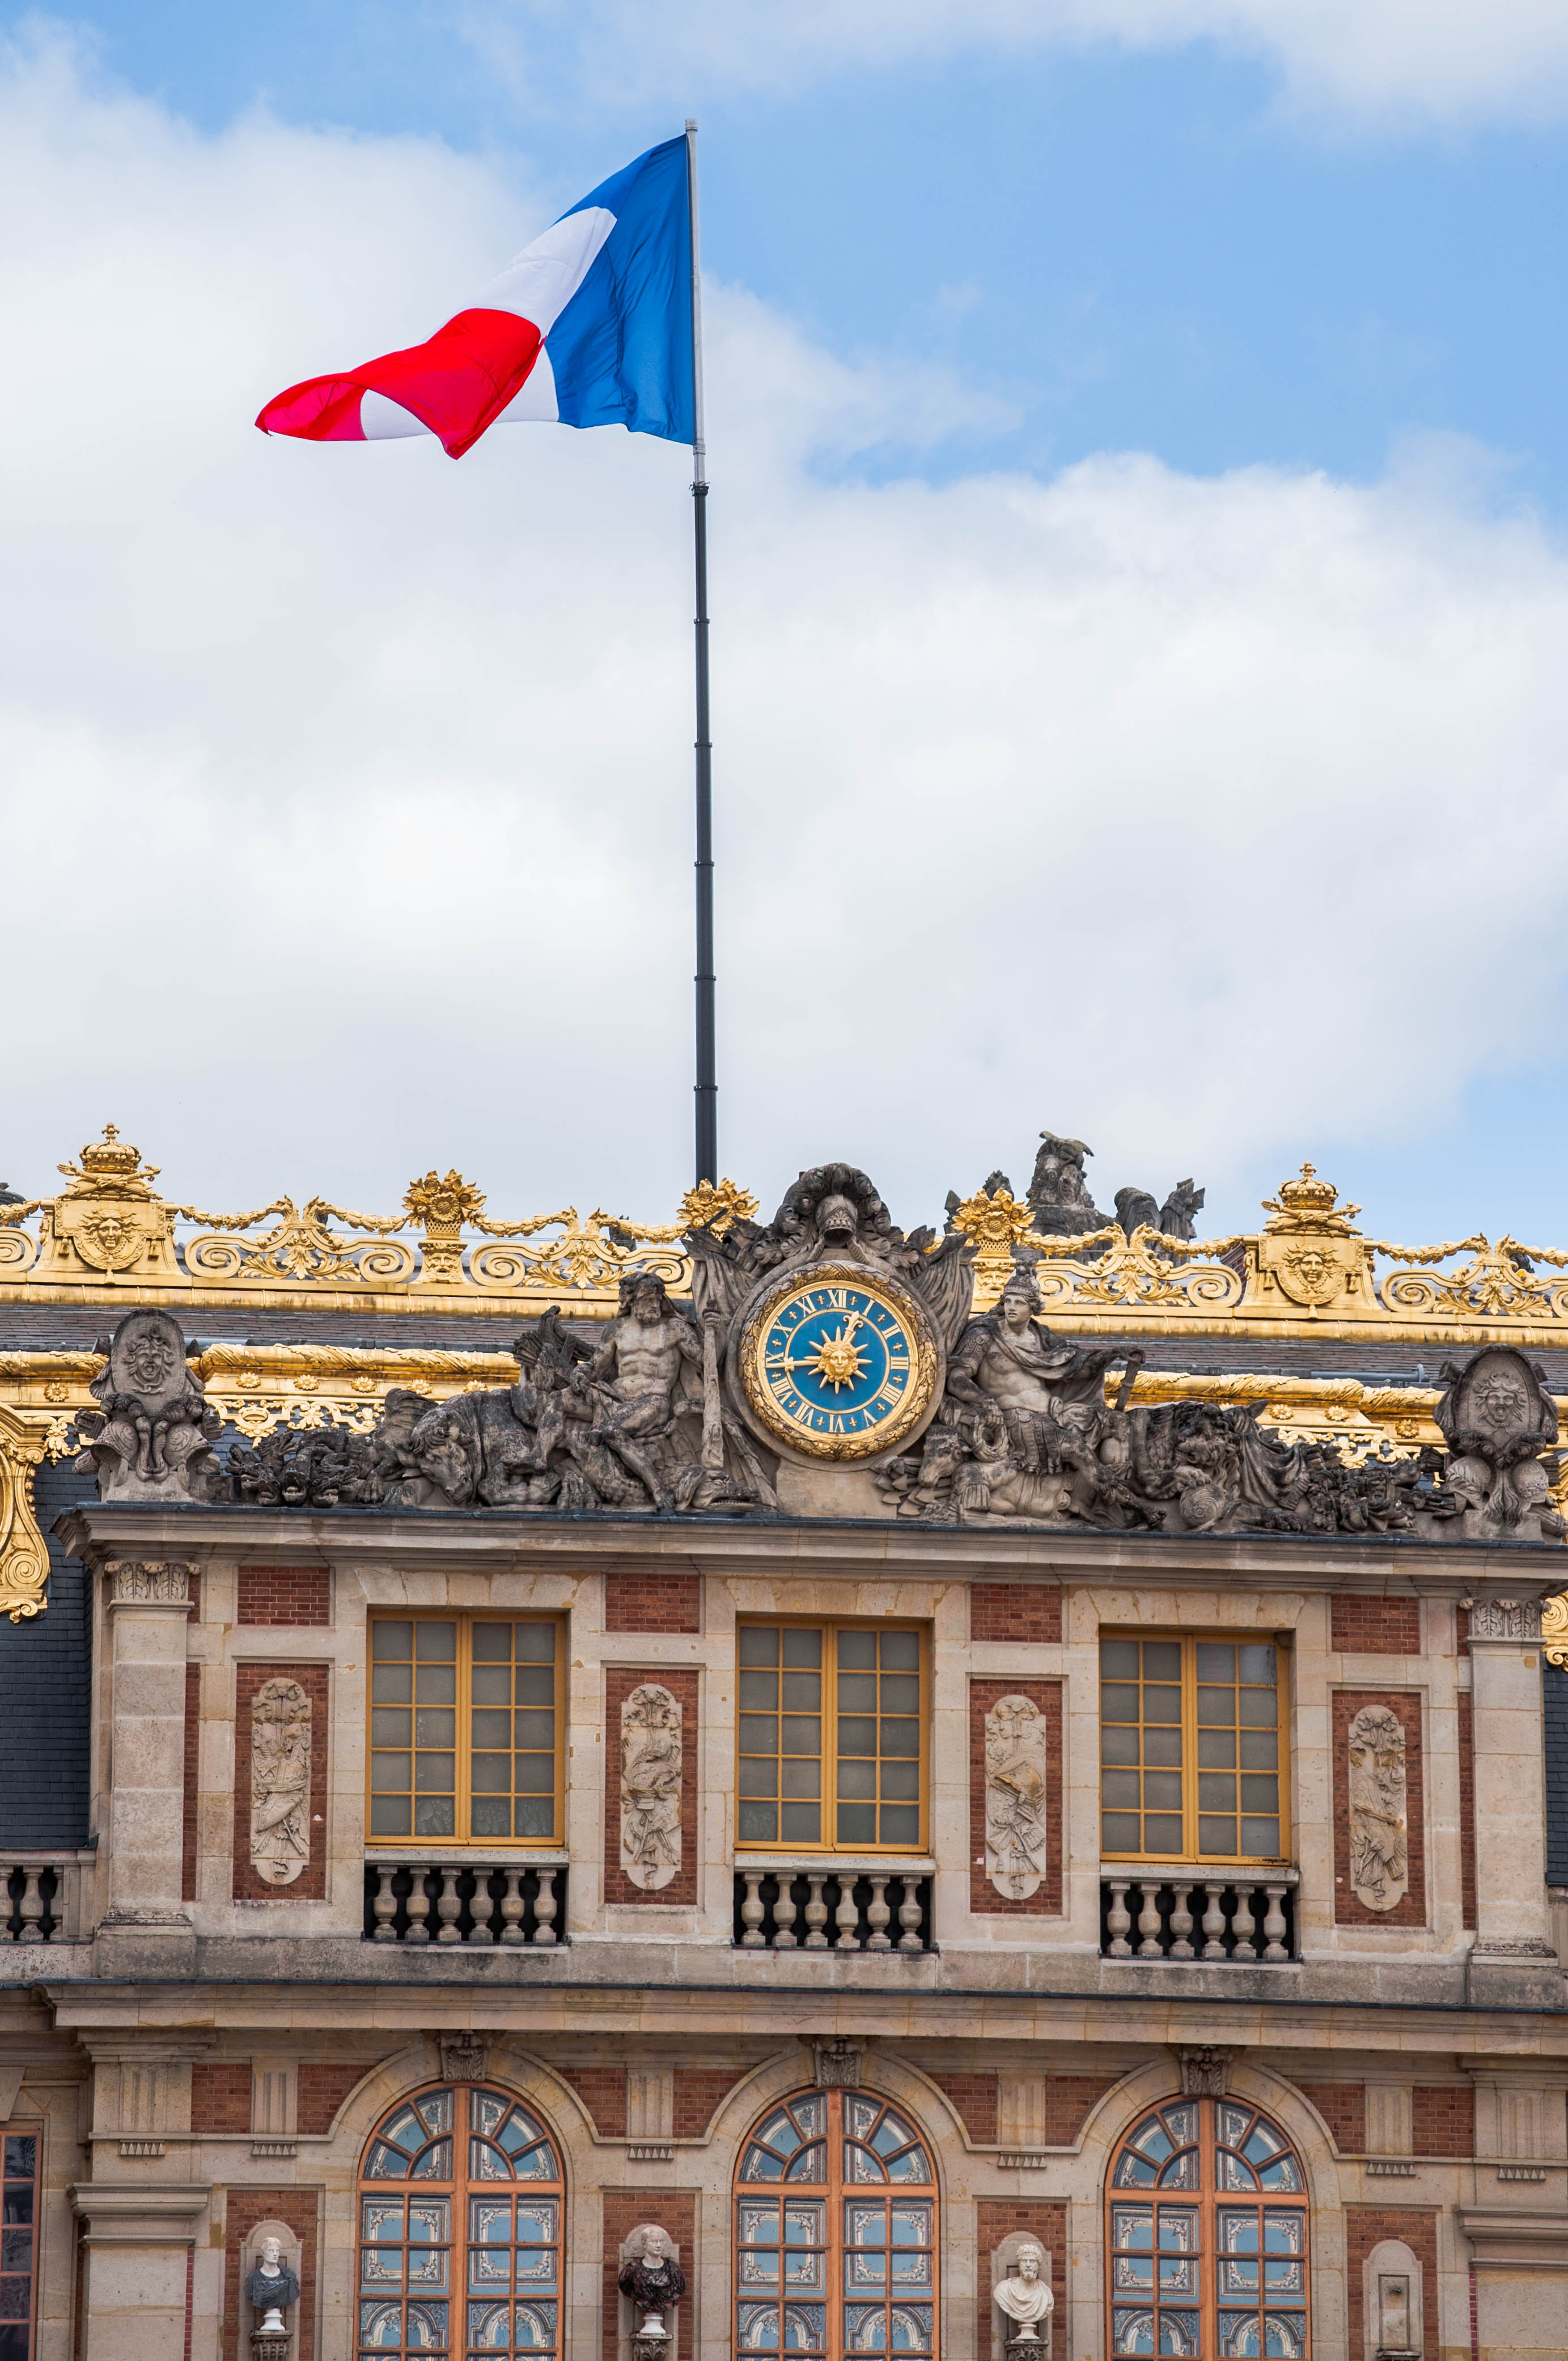Flag: (261, 138, 712, 460)
